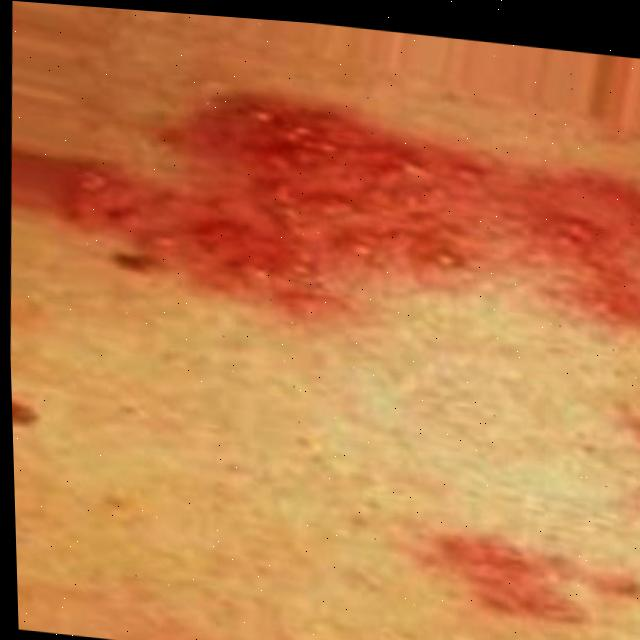Shingles: (60, 75, 640, 365), (425, 519, 640, 640)
